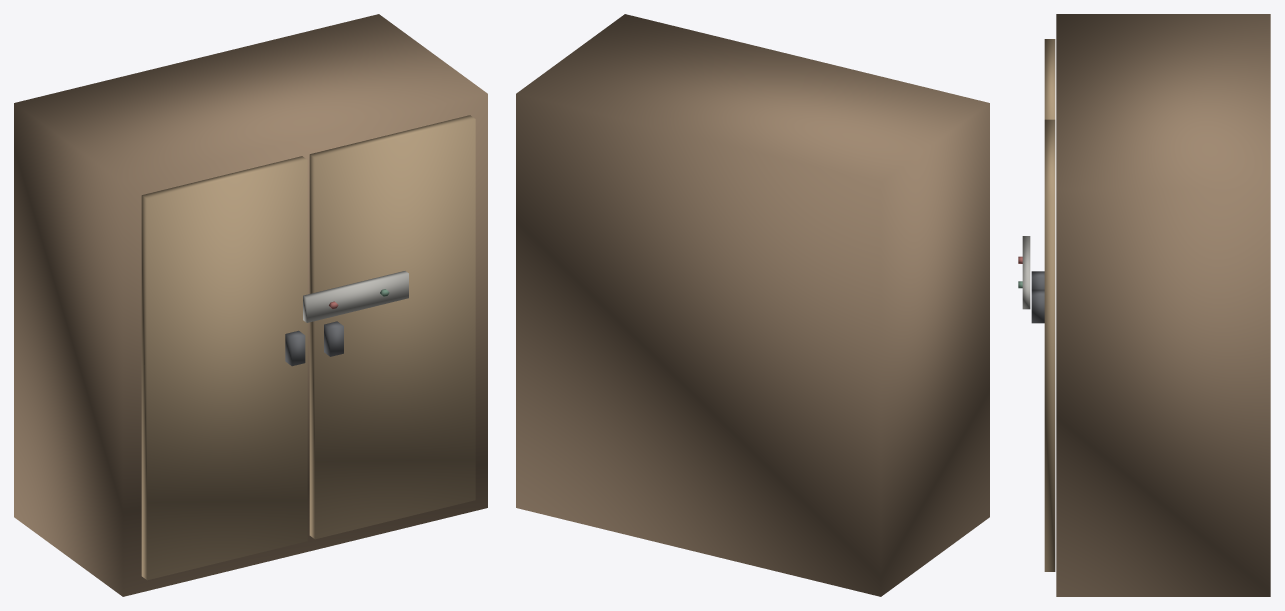
Rendered from cupboard__squat.glb.
The picture shows the model from 3 angles, left to right: view 1: azimuth 30°, elevation 25°; view 2: azimuth 150°, elevation 25°; view 3: azimuth 270°, elevation 25°; orthographic projection.
Parts seen in each view (by area): view 1: world; view 2: world; view 3: world.
Boxes of the visible parts, x1,y1,x2,y2 form: world: [14, 14, 487, 596]; world: [516, 14, 989, 596]; world: [1018, 14, 1270, 596].
Bounding box in the file's own units: 1.04 × 1.13 × 0.6356.
